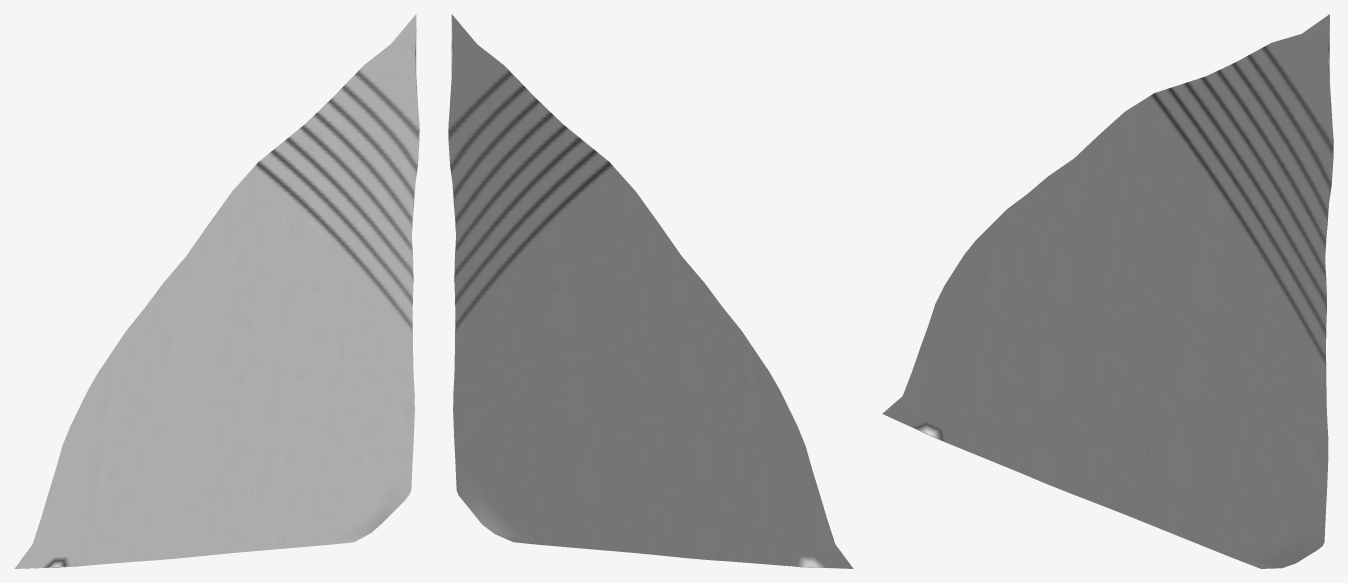
The model's file is sail.obj.
3 renders of one model, left to right at view 1: azimuth 30°, elevation 25°; view 2: azimuth 150°, elevation 25°; view 3: azimuth 330°, elevation 25°, orthographic. The views are drawn at different scales.
Visible parts, largest first — view 1: Plane_Plane.001; view 2: Plane_Plane.001; view 3: Plane_Plane.001.
Part boxes in pixels (x1,y1,x2,y2): Plane_Plane.001: (14, 14, 419, 568); Plane_Plane.001: (448, 14, 853, 568); Plane_Plane.001: (882, 14, 1333, 568).
Size of the model in its own units: 1.85 by 2.23 by 0.0108.
